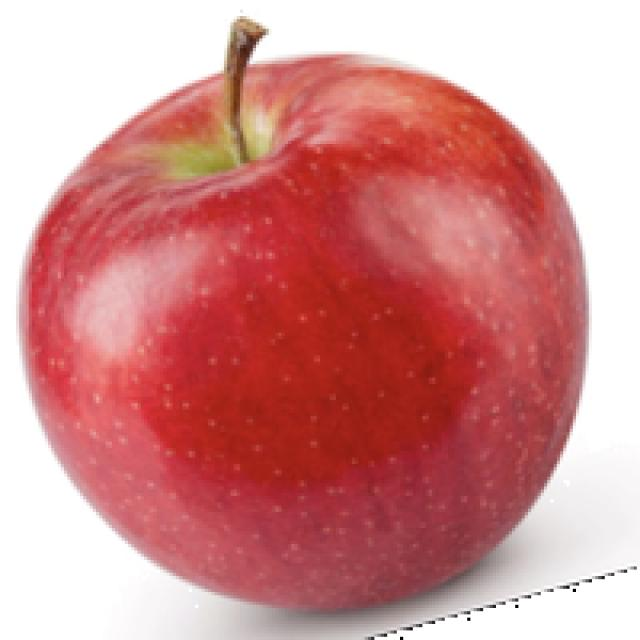apple: (13, 6, 592, 637)
